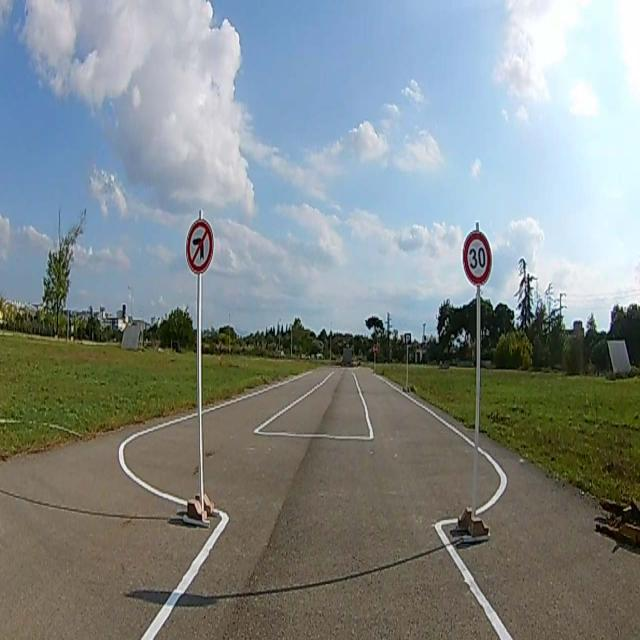30: (463, 232, 492, 284)
soladonulmez: (186, 219, 214, 273)
